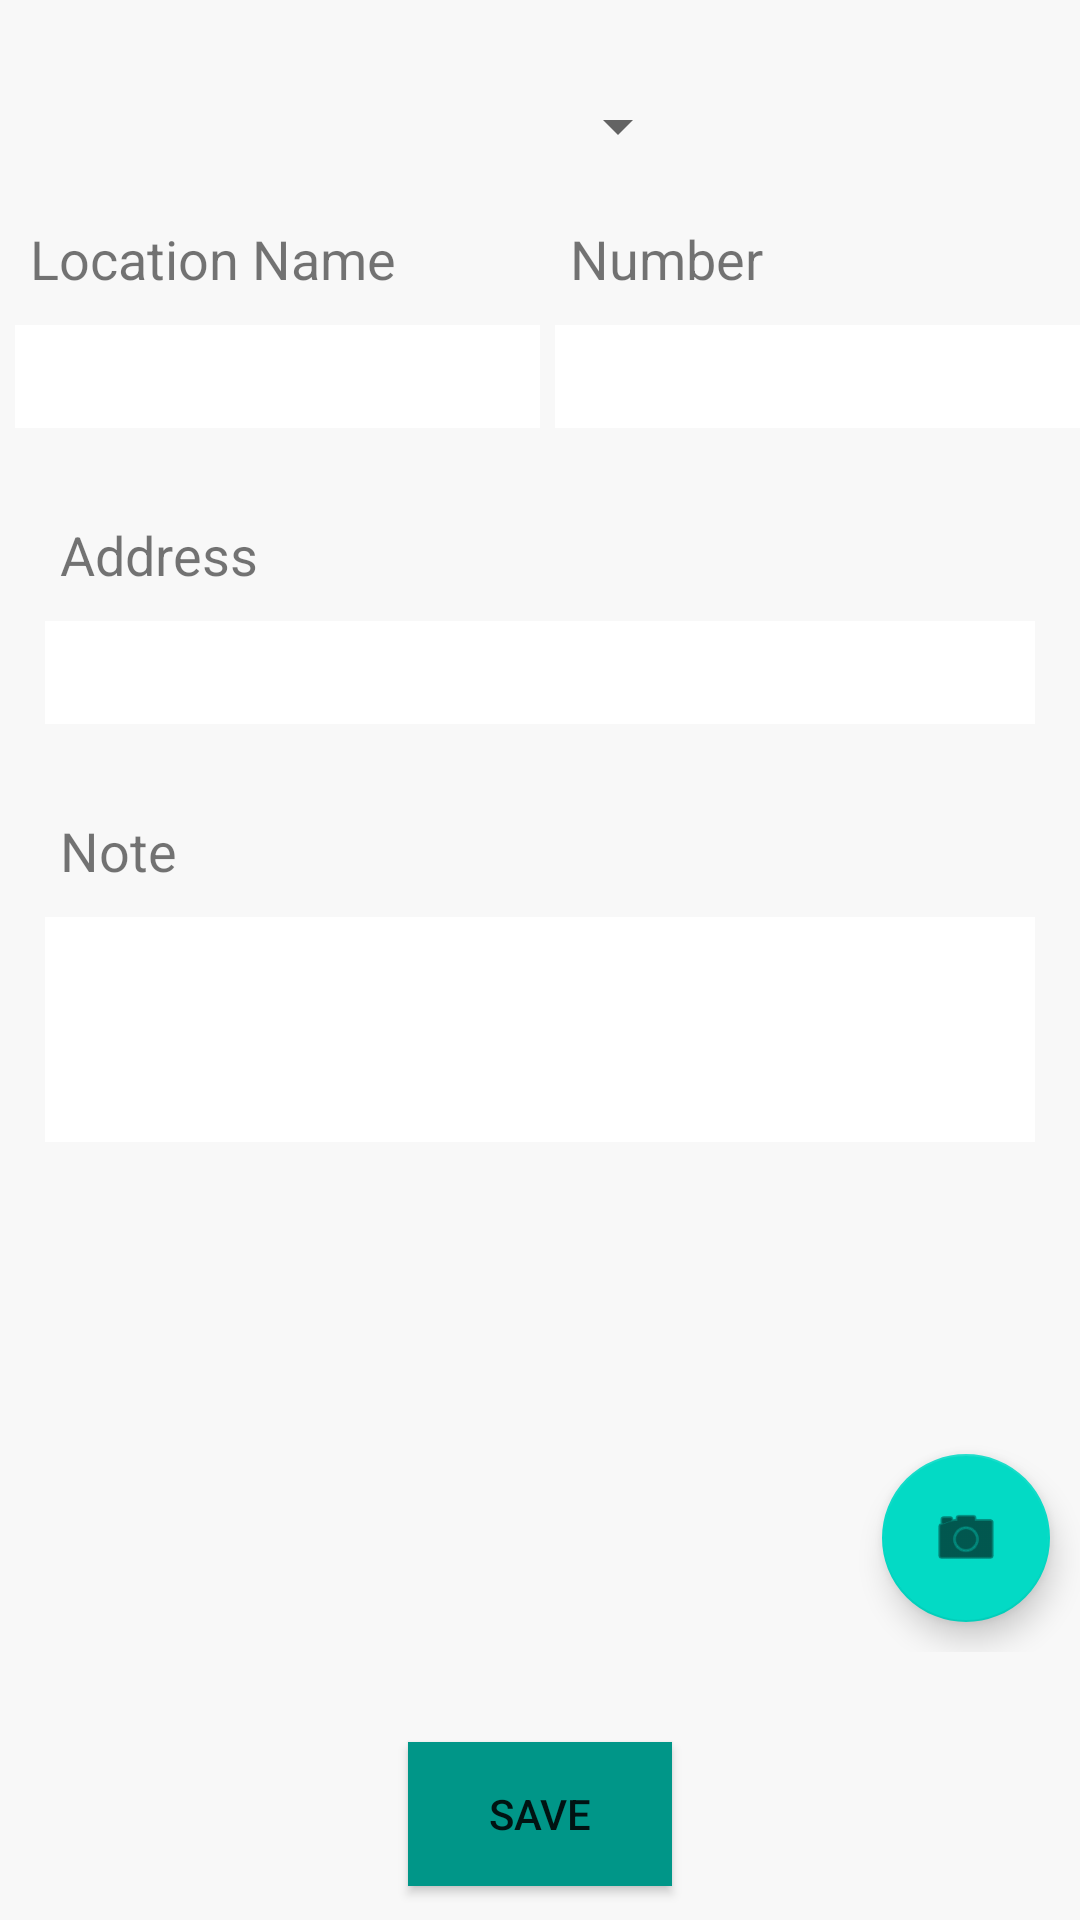

Named icons in this screenshot (1080px×1920px) and their centers, [x,y]:
camera: [966,1538]
